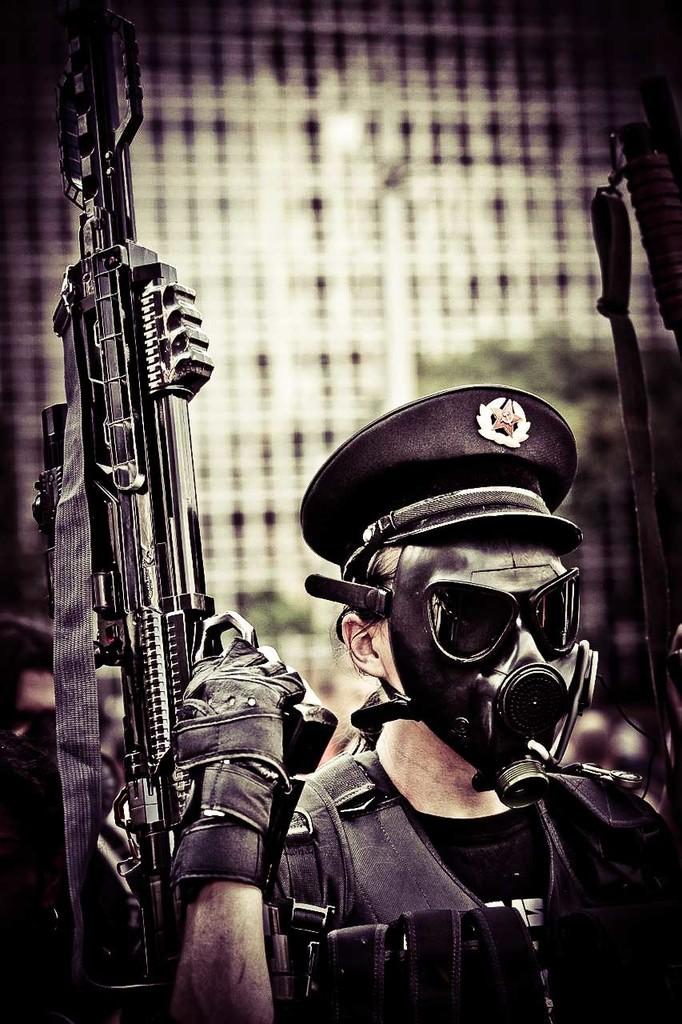Hat: (299, 381, 582, 587)
